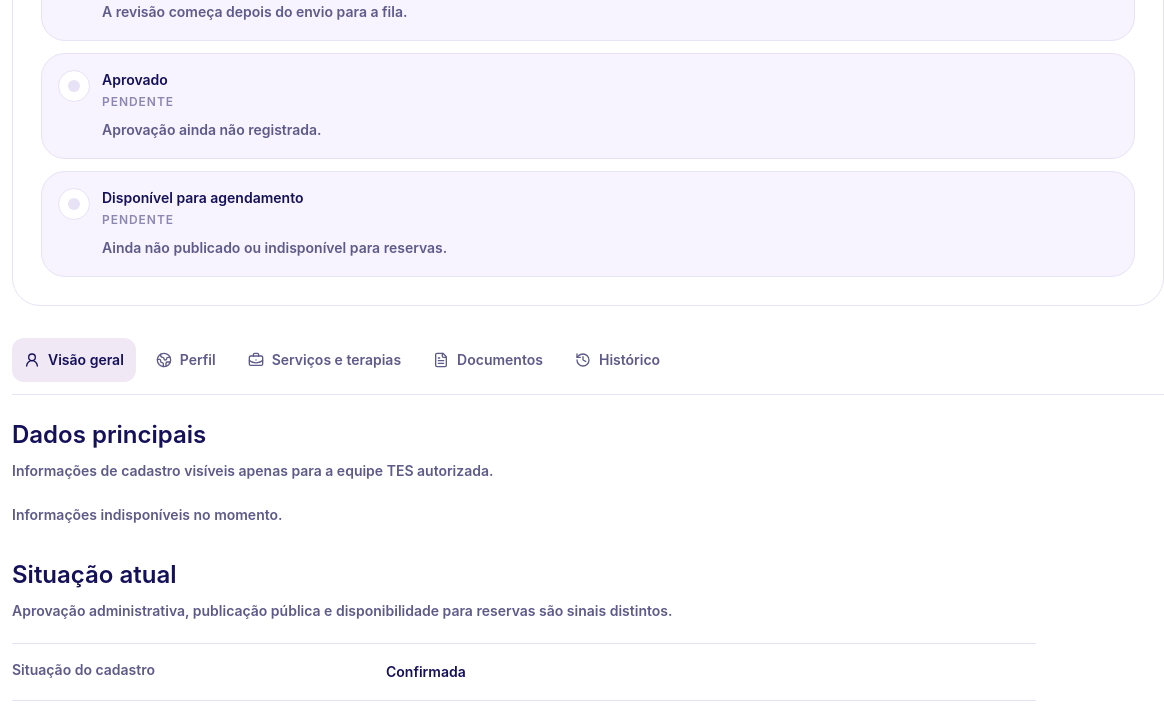
Test: admin operation detail pages › formats the professional history as an operational timeline table
(page scrolled)
Click the tab "Histórico" at [618, 360], box [563,338,672,382]
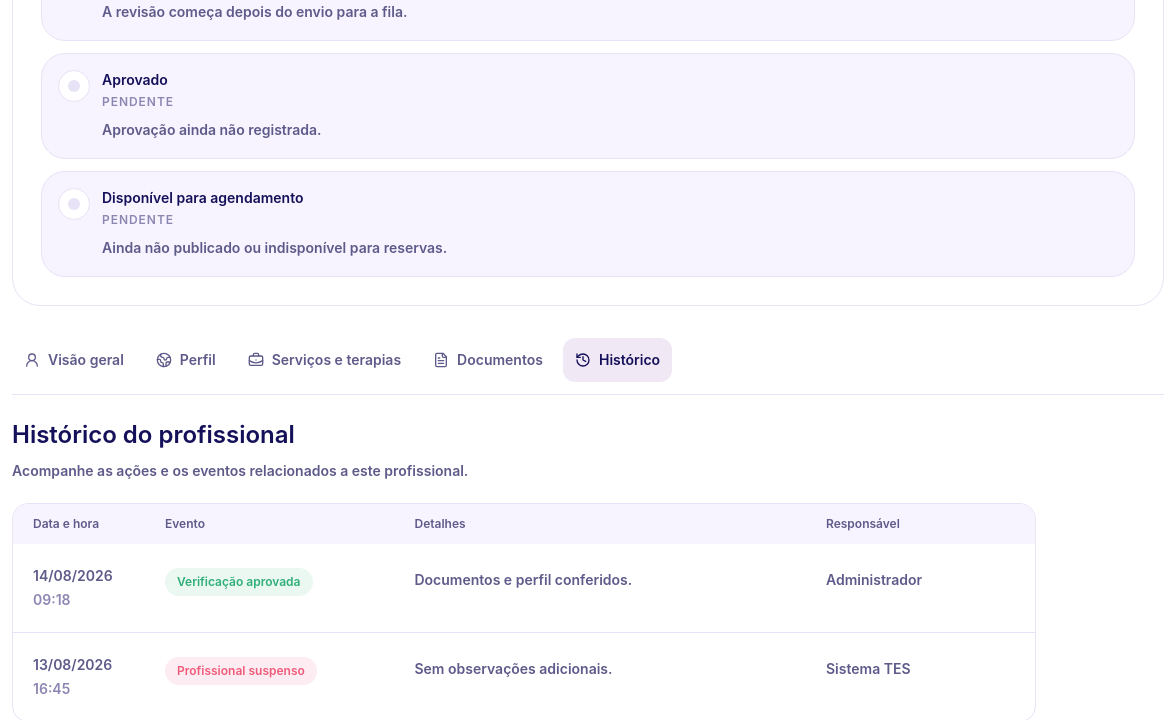
expect the heading "Histórico do profissional" is shown: met, box [12,420,295,449]
expect the text "Data e hora" is shown: met, box [33,516,99,531]
expect the text "Responsável" is shown: met, box [826,516,900,531]
